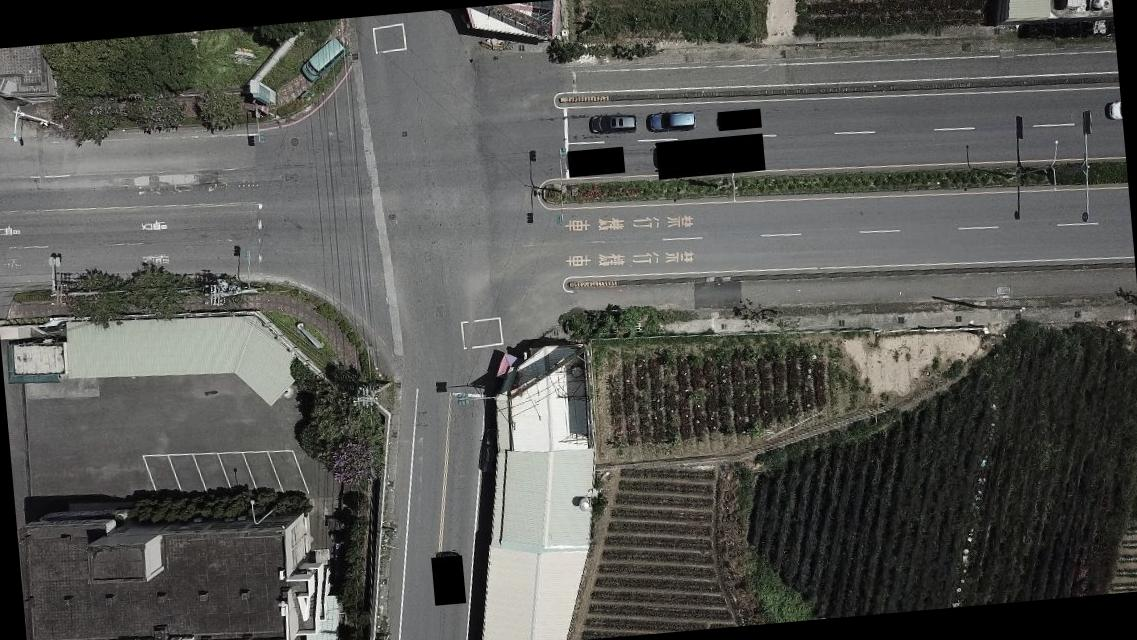vehicle: (298, 34, 352, 84), (645, 108, 696, 136), (585, 110, 639, 136), (1108, 100, 1121, 121)
